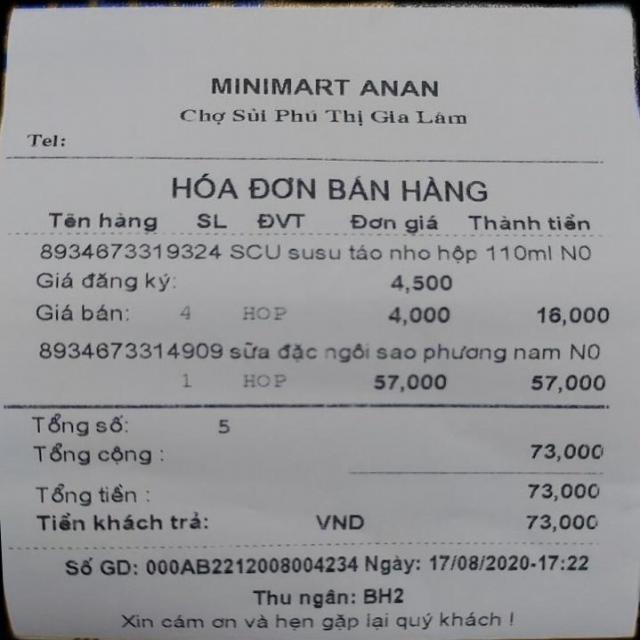Date: (424, 548, 532, 575)
Store_Name: (155, 58, 472, 108)
amount_number: (521, 476, 607, 506)
label_total: (33, 483, 148, 508)
